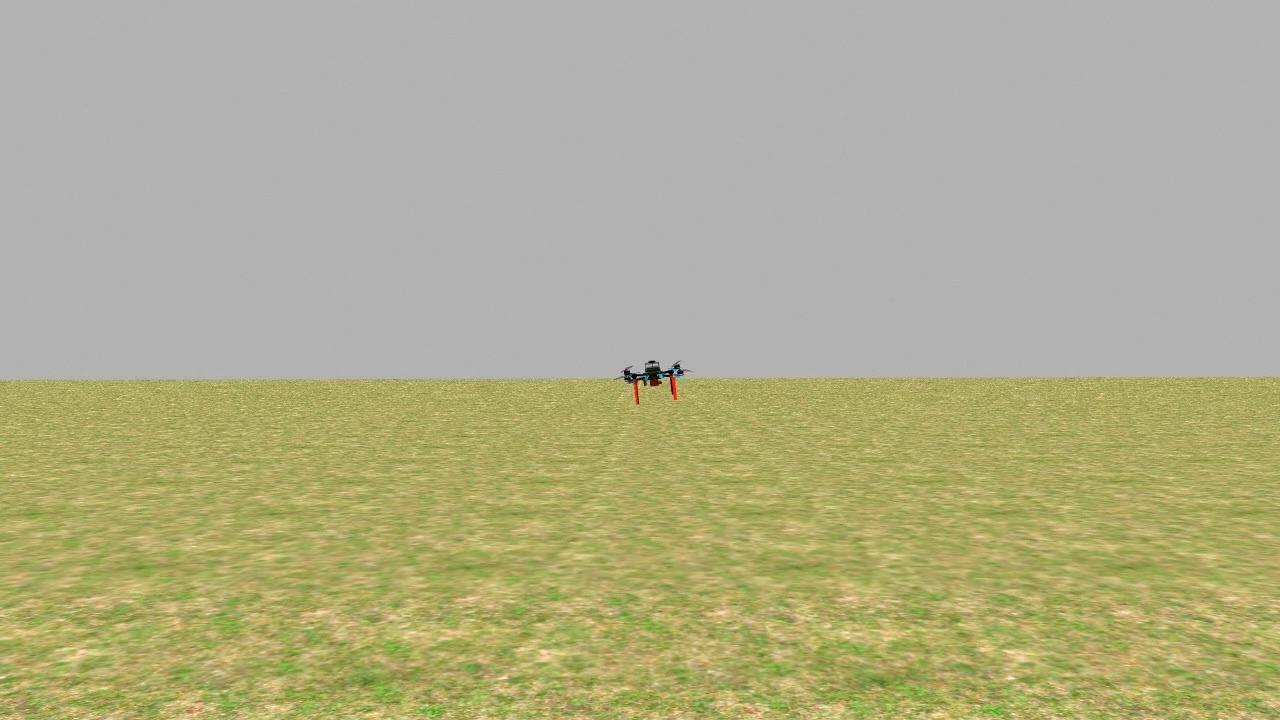UAV: (594, 337, 710, 412)
